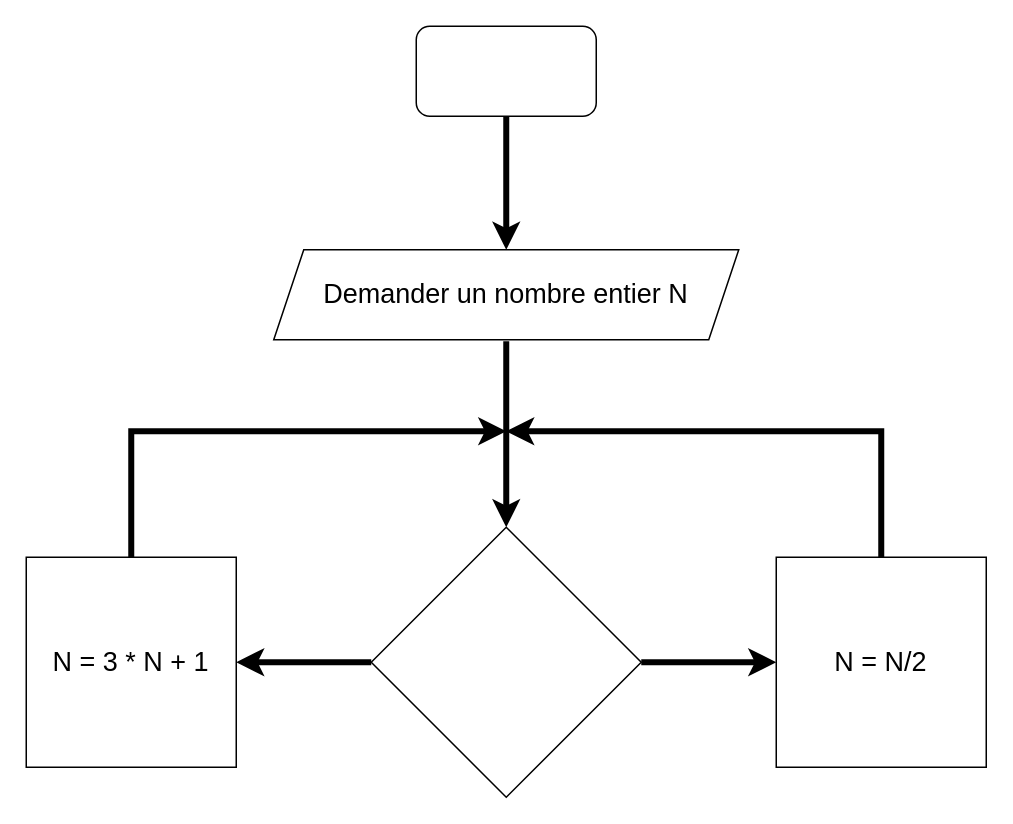
This 1013x824 diagram has some shape labels left out. Here are the shapes that lost their labels. From the top down, the box of each, then its label:
(415, 25, 596, 116): Début
(370, 526, 641, 797): N pair ?
